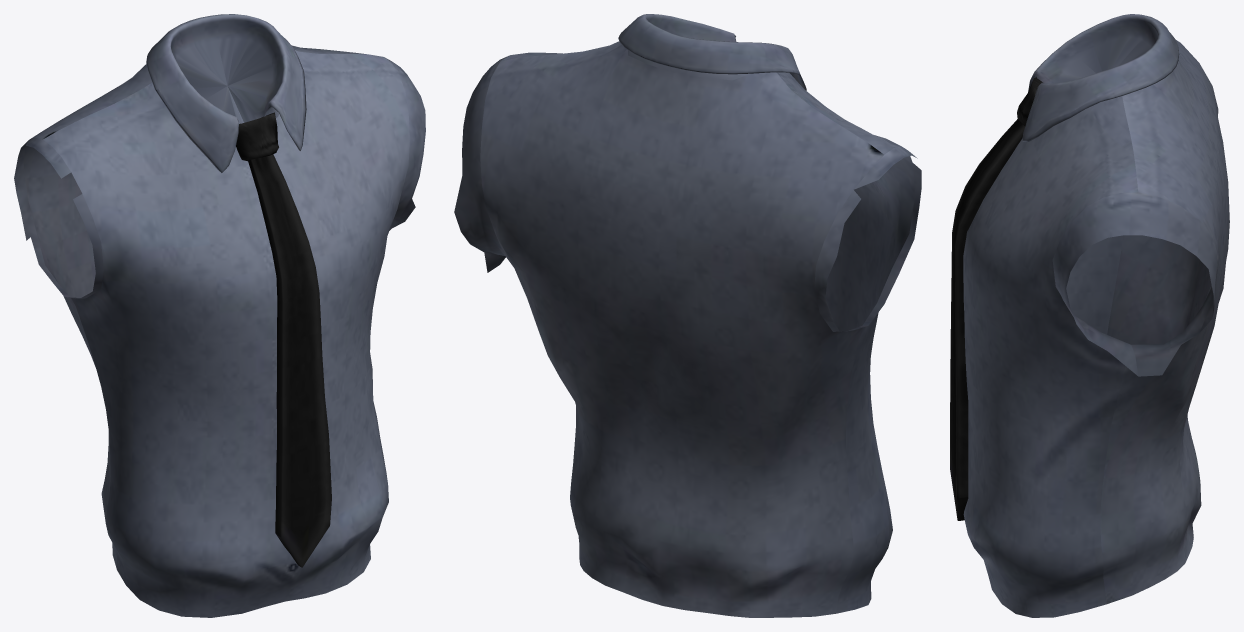
The model's file is torso.obj.
The picture shows the model from 3 angles, left to right: view 1: azimuth 30°, elevation 25°; view 2: azimuth 150°, elevation 25°; view 3: azimuth 270°, elevation 25°; orthographic projection. The views are drawn at different scales.
Visible parts, largest first — view 1: node_id803; view 2: node_id803; view 3: node_id803.
Part boxes in pixels (x1,y1,x2,y2): node_id803: (14,14,425,617); node_id803: (454,14,921,617); node_id803: (950,14,1229,617).
Size of the model in its own units: 0.4355 by 0.5852 by 0.2764.
Materials: 1 (1 with a texture image).
